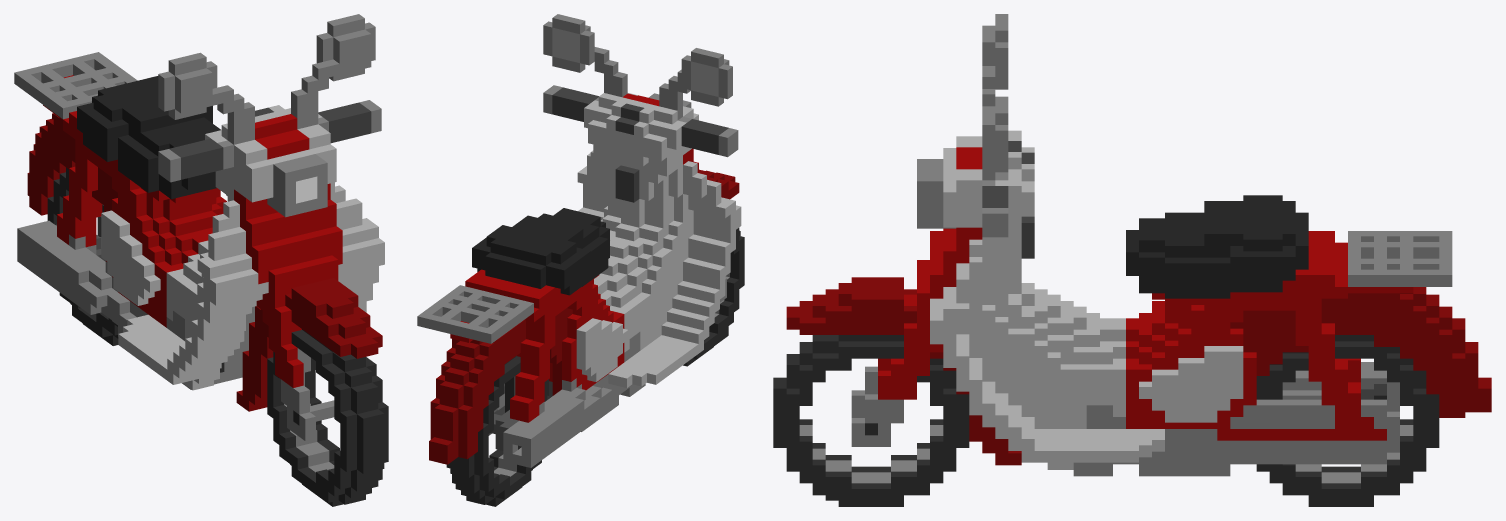
File: player-scooter-1-Scooter.obj
The picture shows the model from 3 angles, left to right: view 1: azimuth 30°, elevation 25°; view 2: azimuth 150°, elevation 25°; view 3: azimuth 270°, elevation 25°; orthographic projection. The views are drawn at different scales.
Visible parts, largest first — view 1: Scooter; view 2: Scooter; view 3: Scooter.
Boxes of the visible parts, x1=… form: Scooter: x1=14, y1=14, x2=388, y2=506; Scooter: x1=417, y1=14, x2=744, y2=506; Scooter: x1=773, y1=14, x2=1491, y2=506.
Size of the model in its own units: 2 by 3.7 by 5.5.
